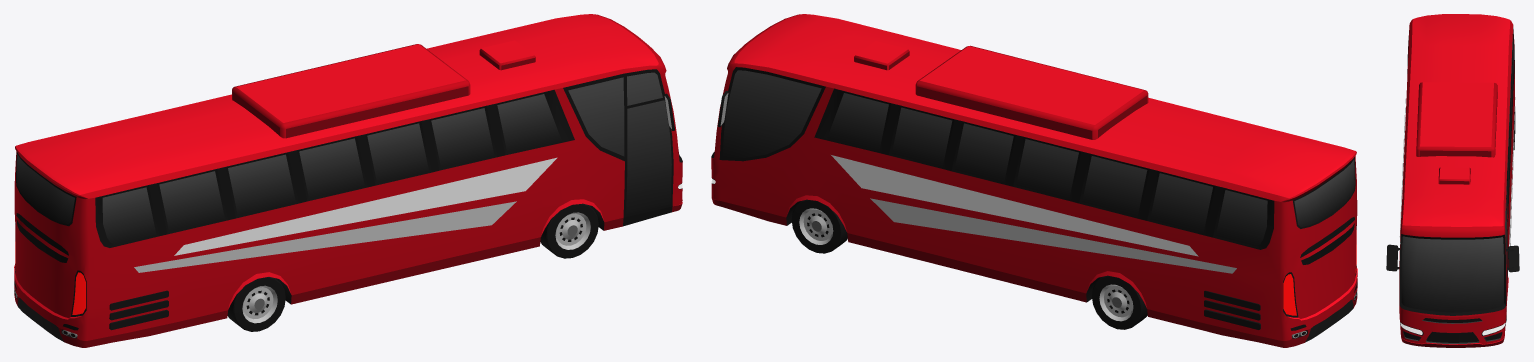
Rendered from Truck_007.glb.
3 renders of one model, left to right at view 1: azimuth 30°, elevation 25°; view 2: azimuth 150°, elevation 25°; view 3: azimuth 270°, elevation 25°, orthographic. The views are drawn at different scales.
Parts seen in each view (by area): view 1: Truck_007, wheel_1_Truck_007_Wheel_1R, wheel_3_Truck_007_Wheel_2R; view 2: Truck_007, wheel_0_Truck_007_Wheel_1L, wheel_2_Truck_007_Wheel_2L; view 3: Truck_007.
Part boxes in pixels (left/top/right/bottom): Truck_007: left=14, top=14, right=682, bottom=347; wheel_1_Truck_007_Wheel_1R: left=540, top=203, right=598, bottom=258; wheel_3_Truck_007_Wheel_2R: left=227, top=277, right=285, bottom=331; Truck_007: left=711, top=14, right=1357, bottom=347; wheel_0_Truck_007_Wheel_1L: left=791, top=199, right=847, bottom=253; wheel_2_Truck_007_Wheel_2L: left=1092, top=275, right=1147, bottom=329; Truck_007: left=1386, top=14, right=1519, bottom=347.
Bounding box in the file's own units: 11.5 × 3.41 × 2.94.
Materials: 3 (3 with a texture image).
